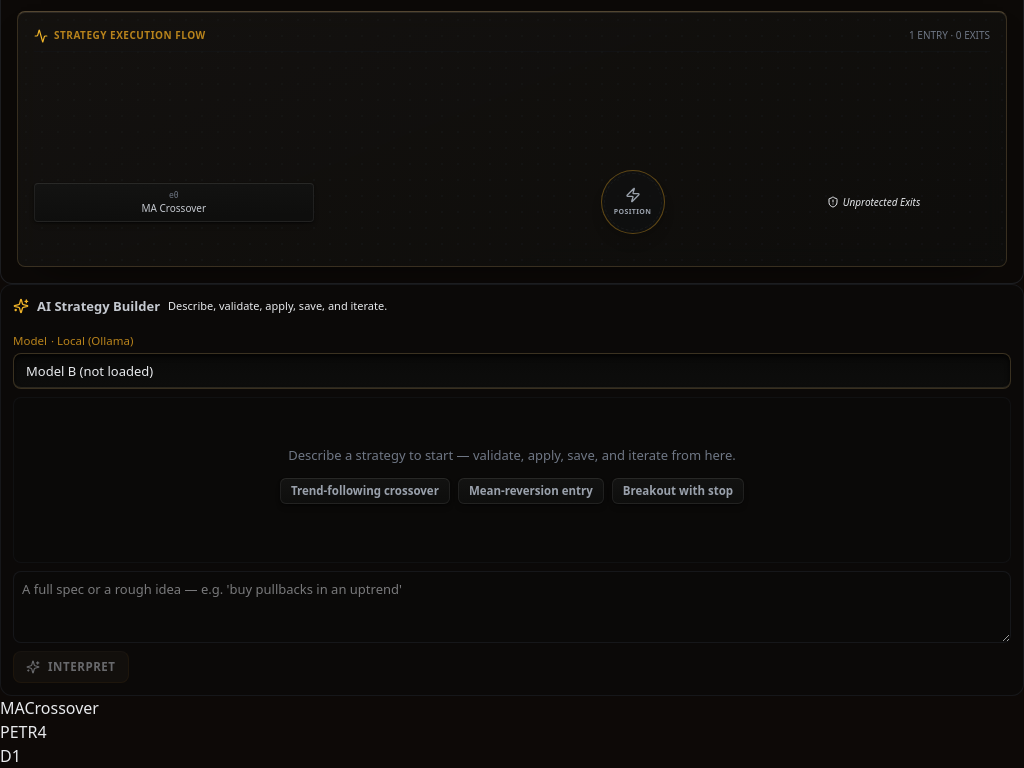
Test: AiStrategyPanel in StrategyStudio › renders validation errors with path, code, and message
(page scrolled)
Expected: the element with test id "ai-strategy-panel" is shown, [0,284,1023,696]
In the text box with test id "ai-strategy-message": (512, 607) [13,571,1011,643], type "Use an invalid timeframe"
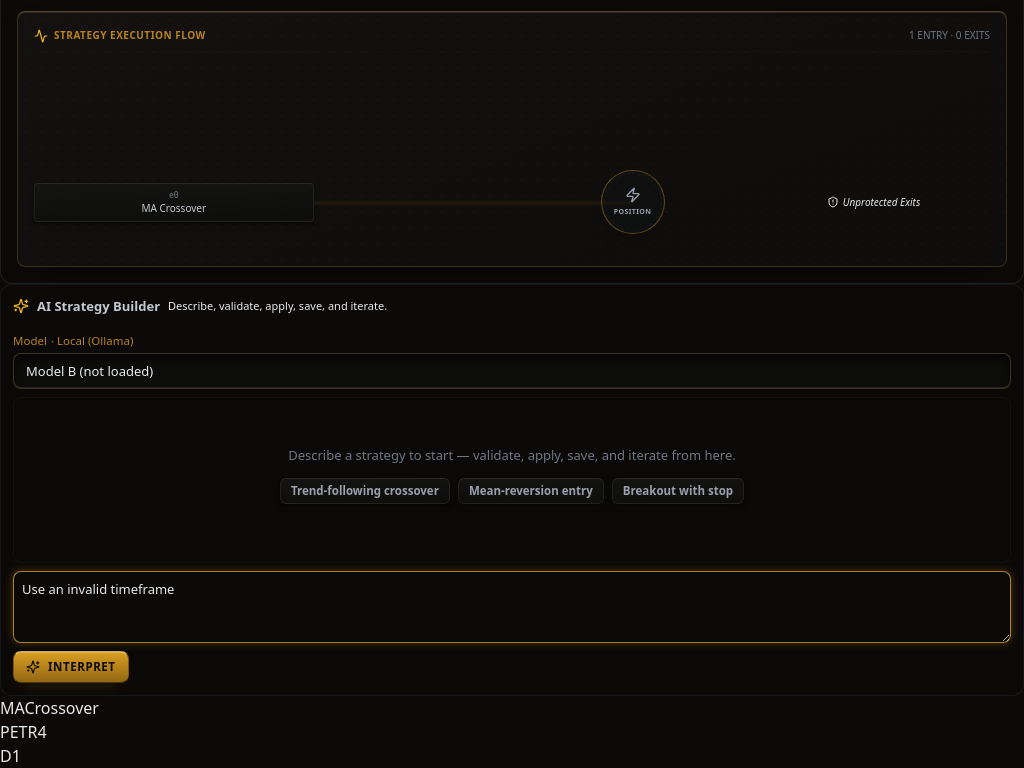
Click the button with test id "ai-strategy-submit": (71, 667) [13,651,129,683]
(page scrolled)
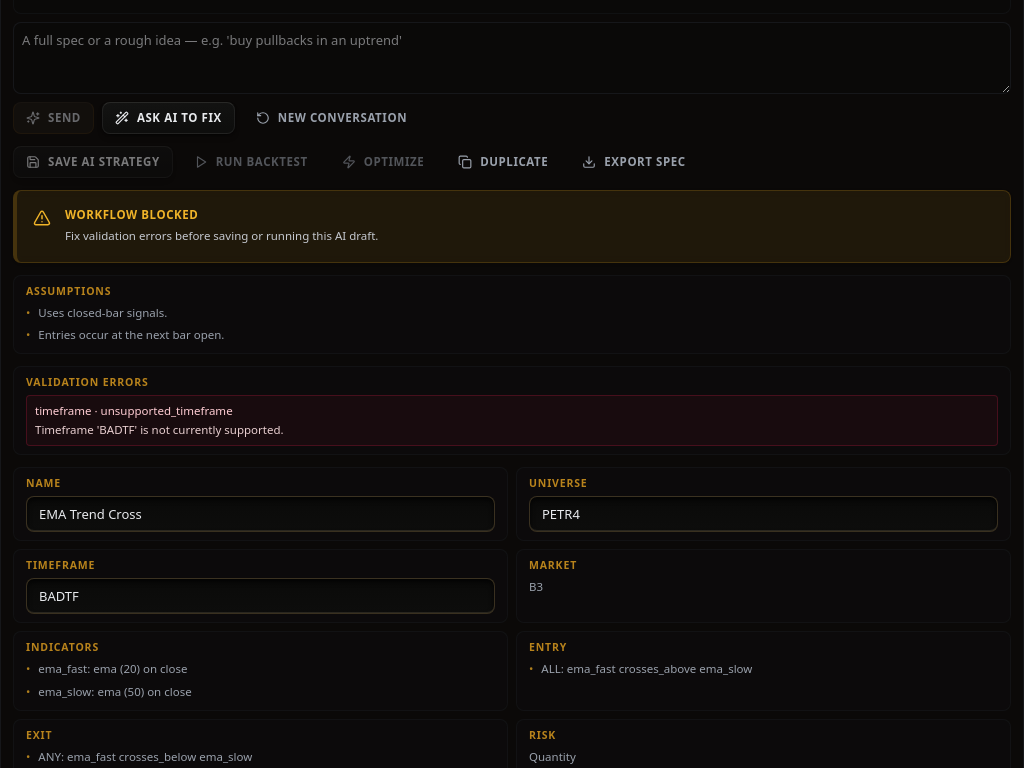
Expected: the list with test id "ai-strategy-validation-errors" is shown, [26,395,998,446]
Expected: the text "timeframe · unsupported_timeframe" is shown, [35,403,233,418]
Expected: the text "Timeframe 'BADTF' is not currently supported." is shown, [35,422,284,437]
